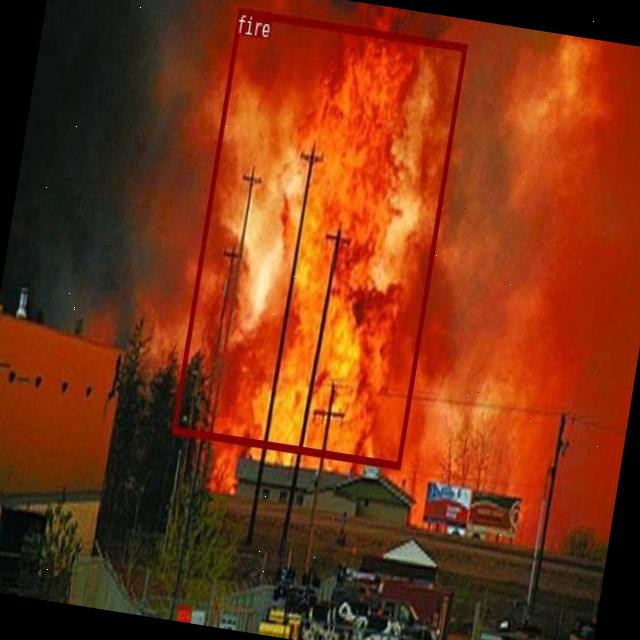fire: (172, 8, 467, 468)
